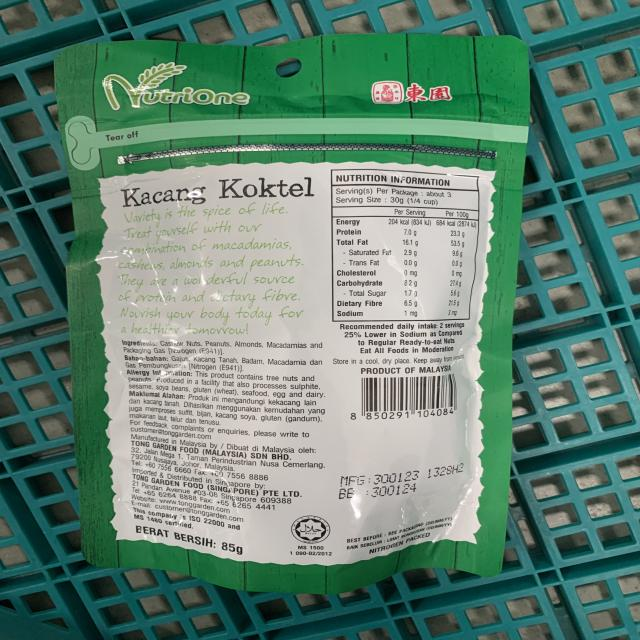object_name: (60, 37, 509, 580)
